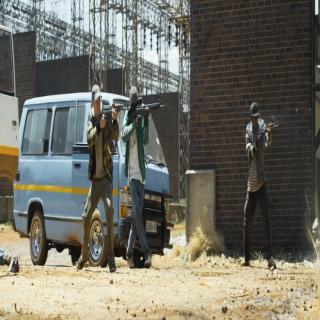gun: (124, 90, 166, 143), (255, 110, 282, 156), (98, 93, 122, 144)
